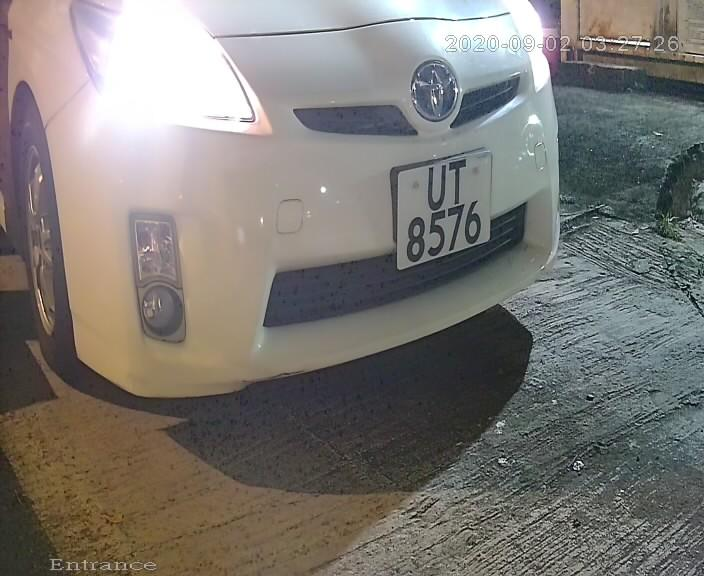License Plate: (381, 139, 497, 281)
